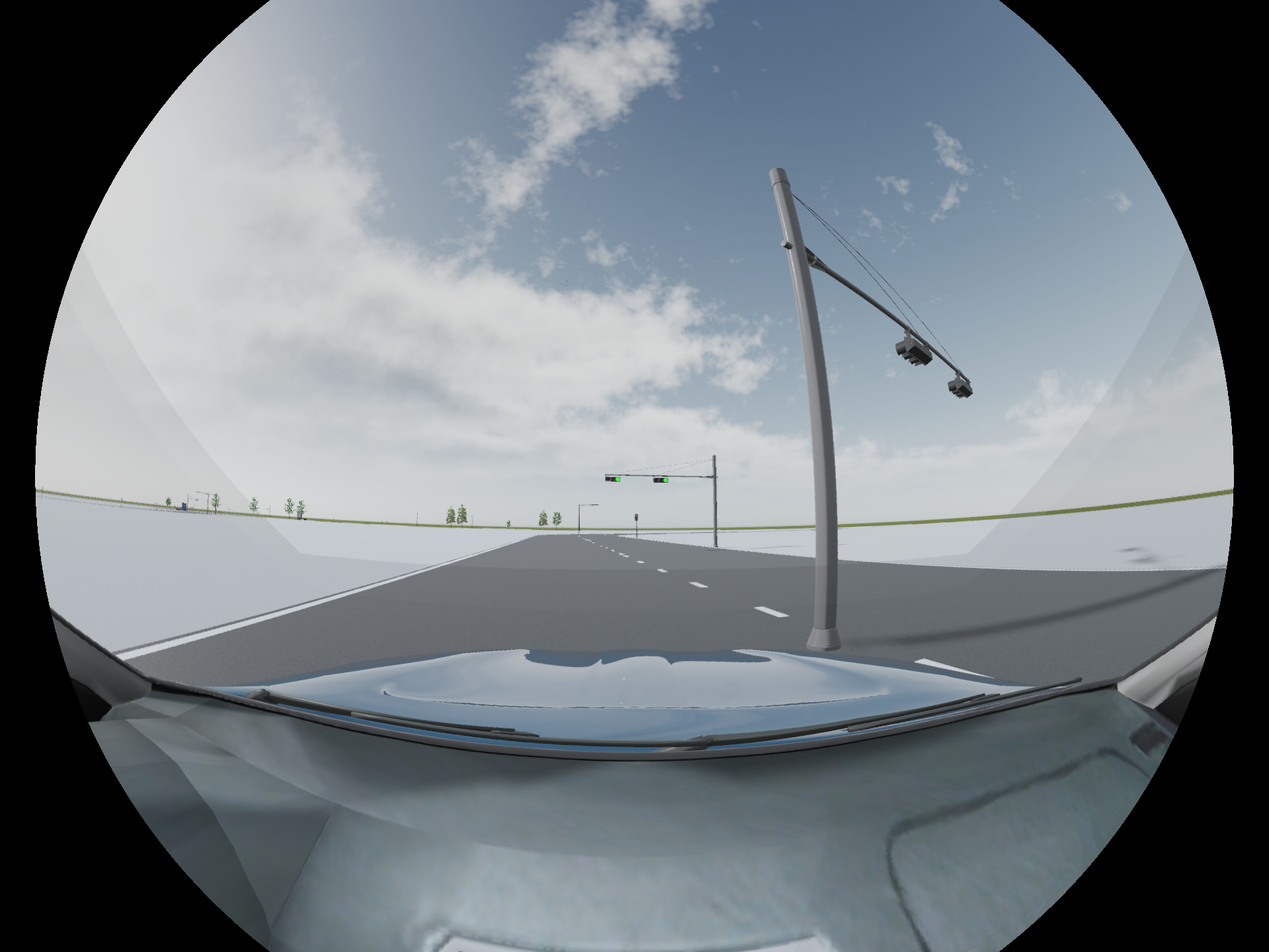Green Light: (653, 476, 669, 484), (605, 476, 621, 483)
